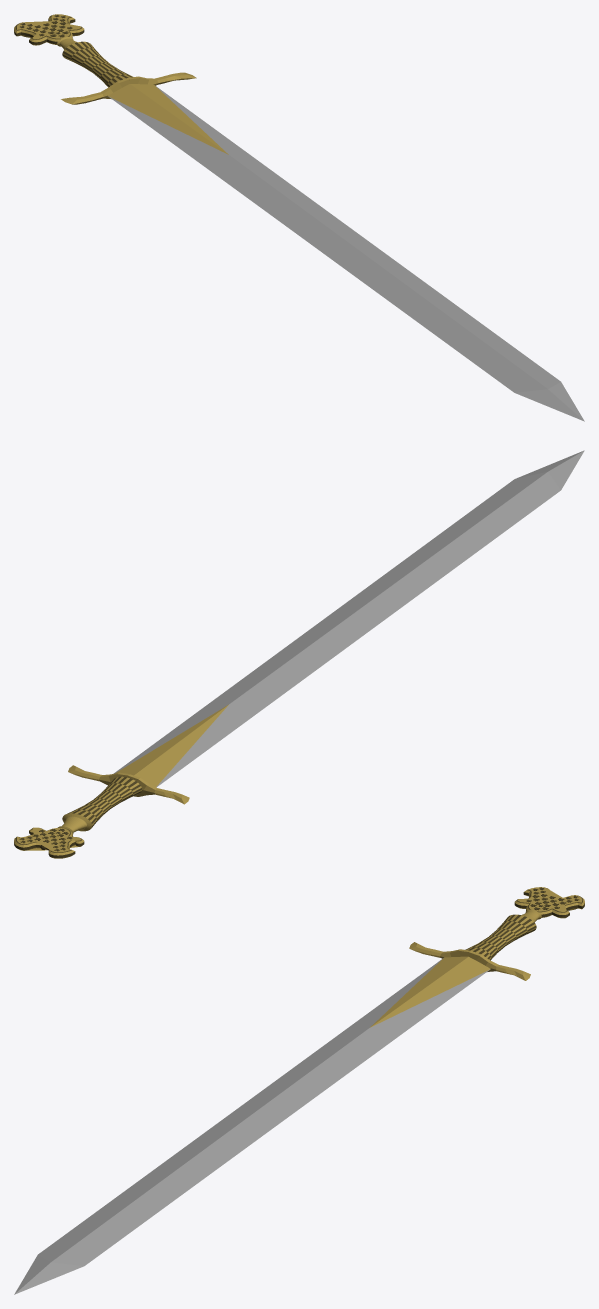
The model's file is Zwaard.fbx.
3 views of the same model, one above another, from view 1: azimuth 30°, elevation 25°; view 2: azimuth 150°, elevation 25°; view 3: azimuth 330°, elevation 25° (orthographic).
Visible parts, largest first — view 1: Cube.015, Cylinder.001, Cylinder.002, Cube.017; view 2: Cube.015, Cylinder.001, Cylinder.002, Cube.017; view 3: Cube.015, Cylinder.001, Cylinder.002, Cube.017.
Boxes of the visible parts, x1=… form: Cube.015: x1=108, y1=84, x2=584, y2=421; Cylinder.001: x1=57, y1=37, x2=133, y2=87; Cylinder.002: x1=14, y1=14, x2=84, y2=45; Cube.017: x1=61, y1=72, x2=196, y2=104; Cube.015: x1=113, y1=450, x2=584, y2=787; Cylinder.001: x1=40, y1=776, x2=141, y2=849; Cylinder.002: x1=14, y1=827, x2=84, y2=858; Cube.017: x1=68, y1=765, x2=189, y2=804; Cube.015: x1=14, y1=956, x2=490, y2=1294; Cylinder.001: x1=465, y1=909, x2=541, y2=960; Cylinder.002: x1=514, y1=887, x2=584, y2=918; Cube.017: x1=409, y1=942, x2=530, y2=980.
Size of the model in its own units: 14.75 by 2.28 by 113.
